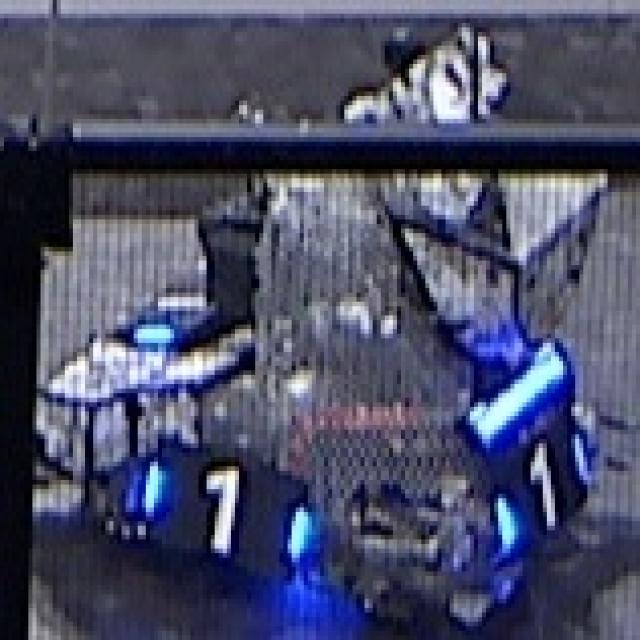B1: (134, 462, 316, 571), (494, 430, 592, 553), (130, 270, 214, 356)
